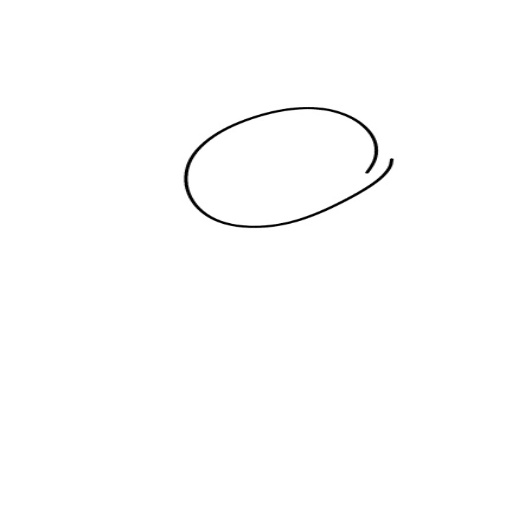circle: (176, 96, 401, 235)
